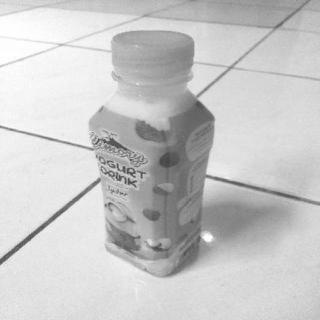plastic_bottles: (87, 27, 219, 280)
